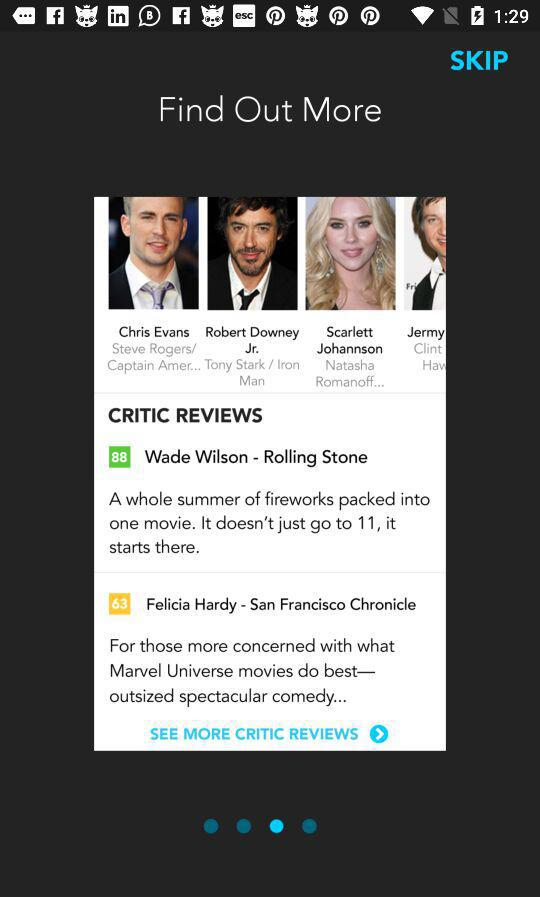Image: (94, 197, 447, 752)
PageIndicator: (203, 817, 319, 836)
Text: (161, 95, 382, 123), (450, 51, 509, 72)
UpperTaskBar: (1, 1, 540, 33)
